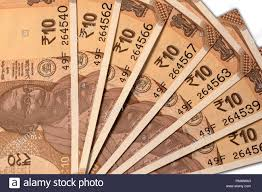ten: (2, 6, 66, 173)
